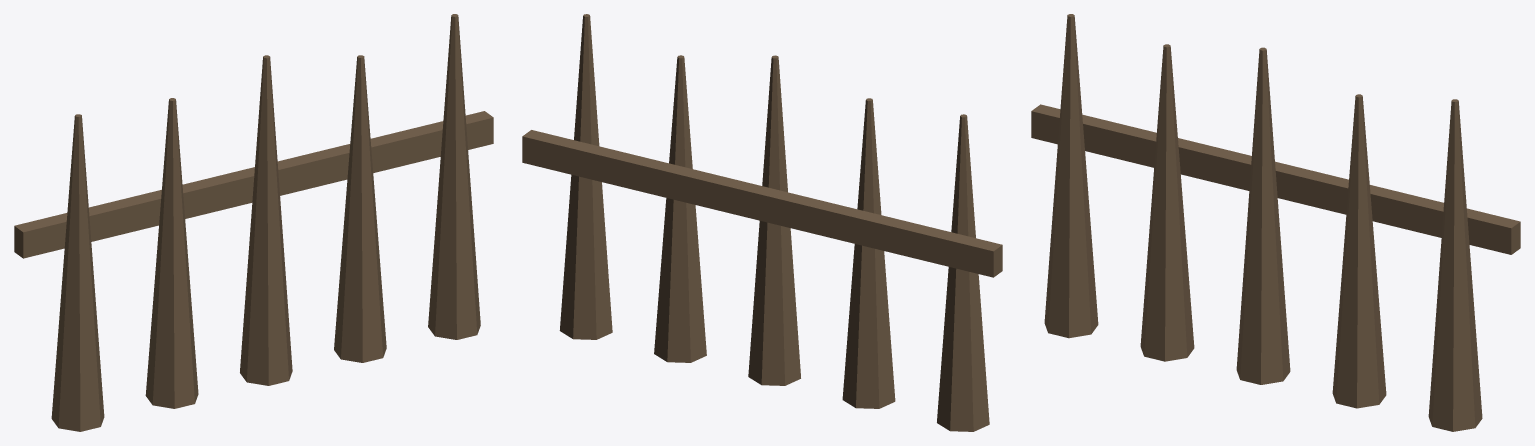
The model's file is palisade_section.glb.
3 views of the same model, side by side, from view 1: azimuth 30°, elevation 25°; view 2: azimuth 150°, elevation 25°; view 3: azimuth 330°, elevation 25° (orthographic). The views are drawn at different scales.
Parts seen in each view (by area): view 1: palisade_section; view 2: palisade_section; view 3: palisade_section.
Part boxes in pixels (box(x1,y1,x2,y2)): palisade_section: box(14, 14, 493, 431); palisade_section: box(522, 14, 1002, 431); palisade_section: box(1031, 14, 1520, 431).
Bounding box in the file's own units: 3 × 1.94 × 0.3251.
